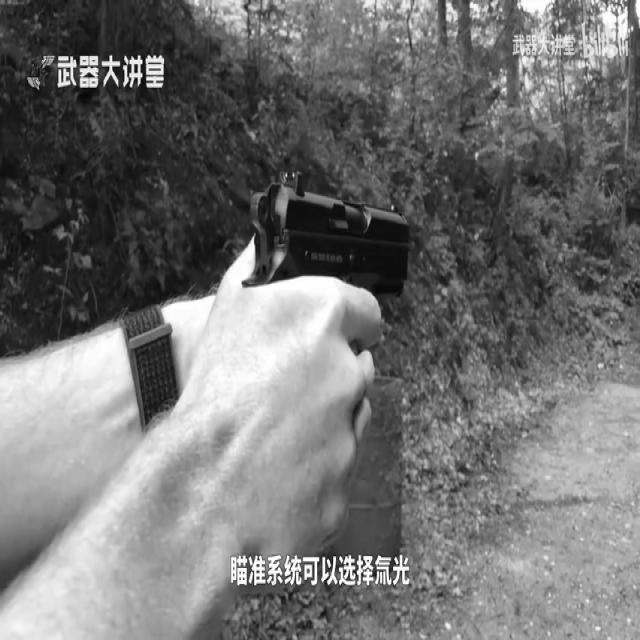Hand-Gun: (234, 152, 412, 319)
